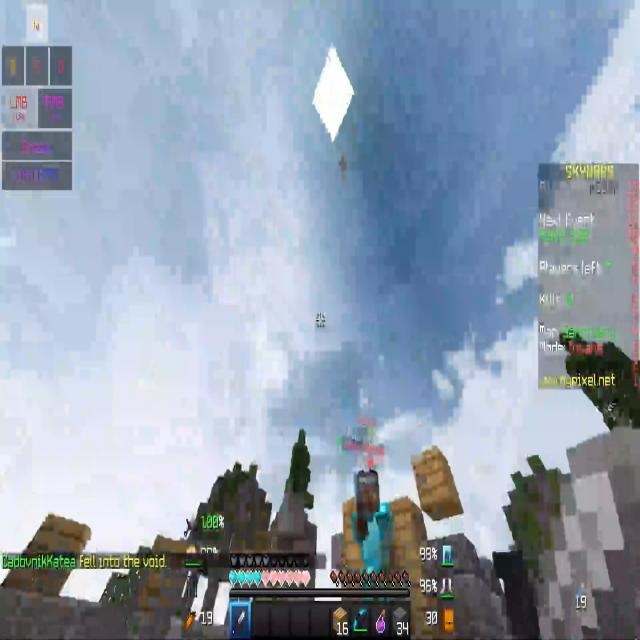Player: (349, 464, 398, 612)
